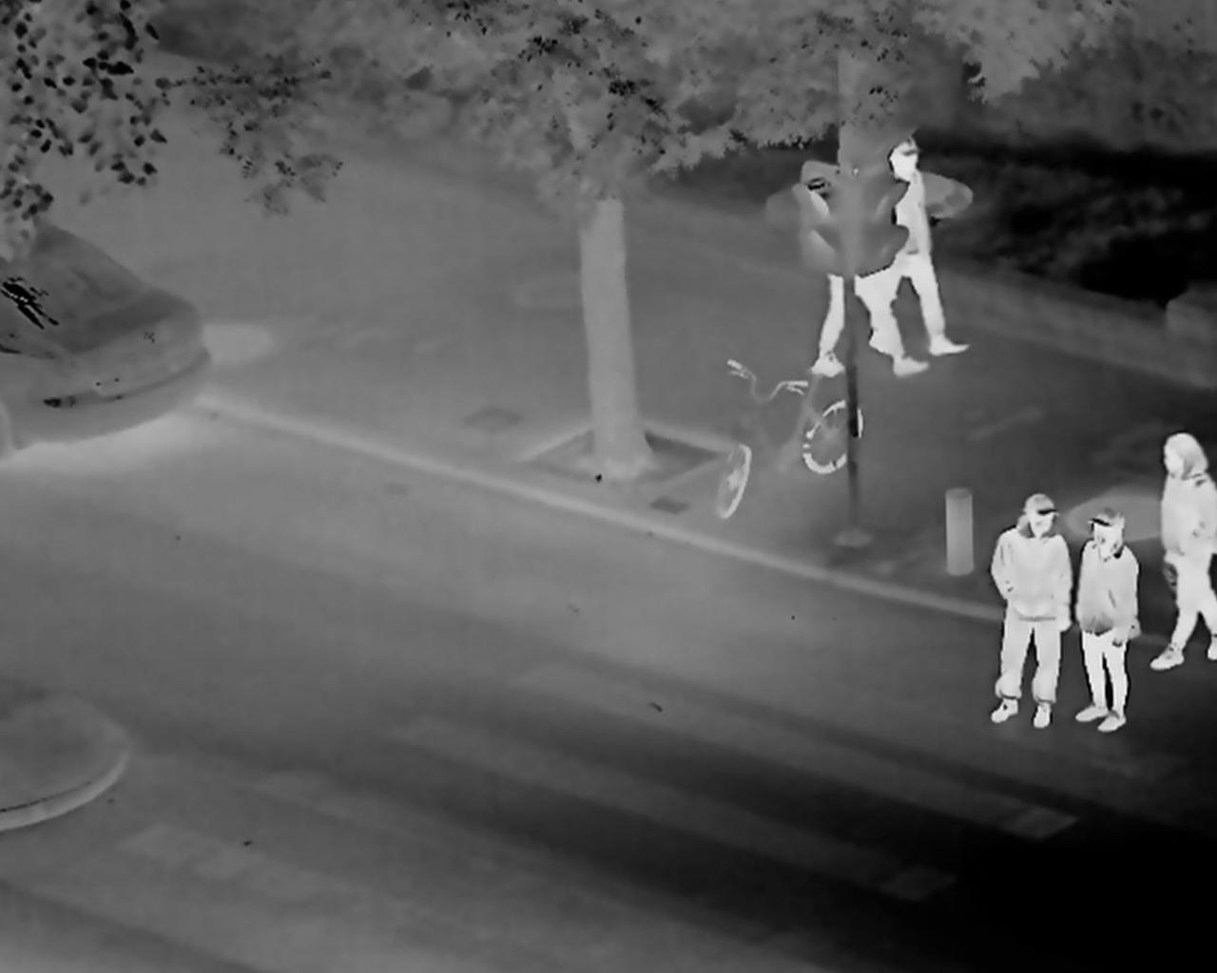person: (803, 154, 920, 376), (872, 138, 972, 359), (986, 494, 1070, 728), (1150, 432, 1217, 670), (1072, 506, 1140, 735)
